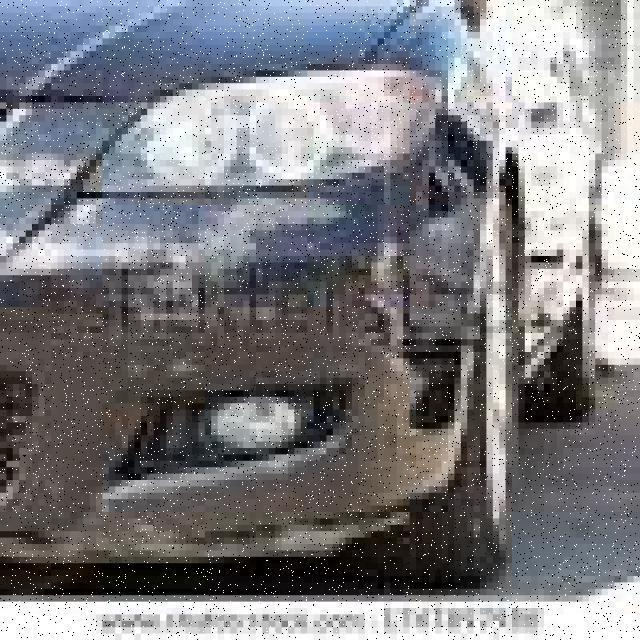hood: (0, 154, 499, 538)
